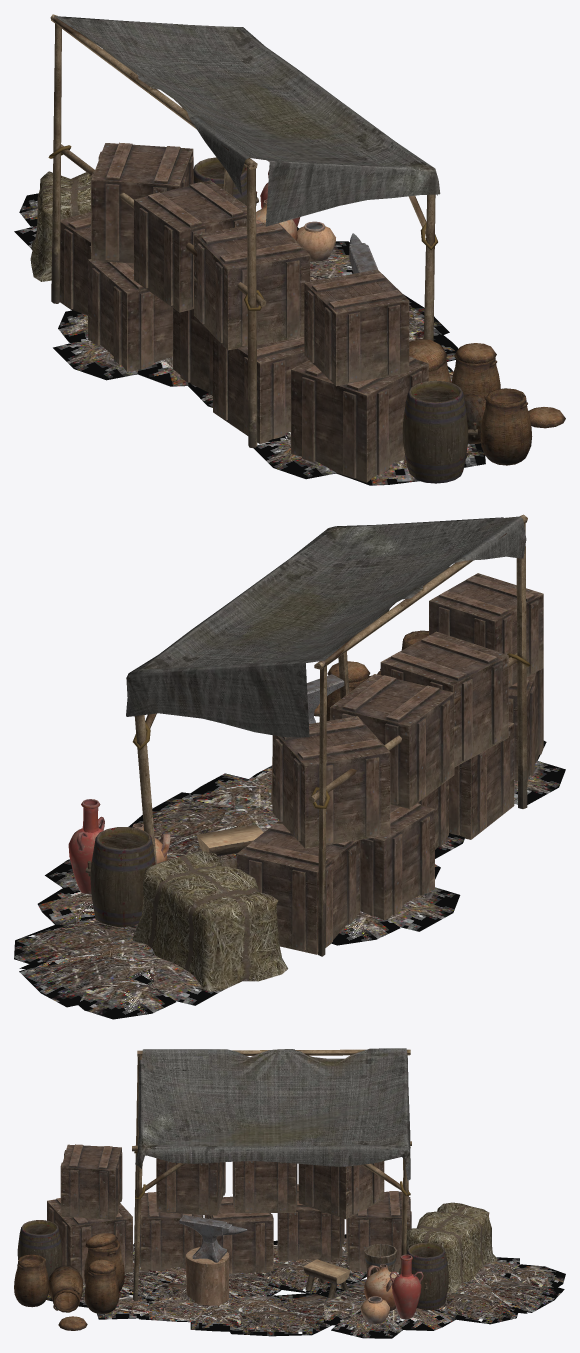
Rendered from SHO_Stand_D-transformed.glb.
The picture shows the model from 3 angles, top to bottom: view 1: azimuth 30°, elevation 25°; view 2: azimuth 150°, elevation 25°; view 3: azimuth 270°, elevation 25°; orthographic projection. The views are drawn at different scales.
Visible parts, largest first — view 1: default; view 2: default; view 3: default.
Boxes of the visible parts, bbox=[...] form: default: bbox=[14, 14, 565, 485]; default: bbox=[14, 514, 565, 1019]; default: bbox=[14, 1048, 565, 1338].
Bounding box in the file's own units: 2.7 × 2.21 × 5.61.
10 materials, 10 textured.
